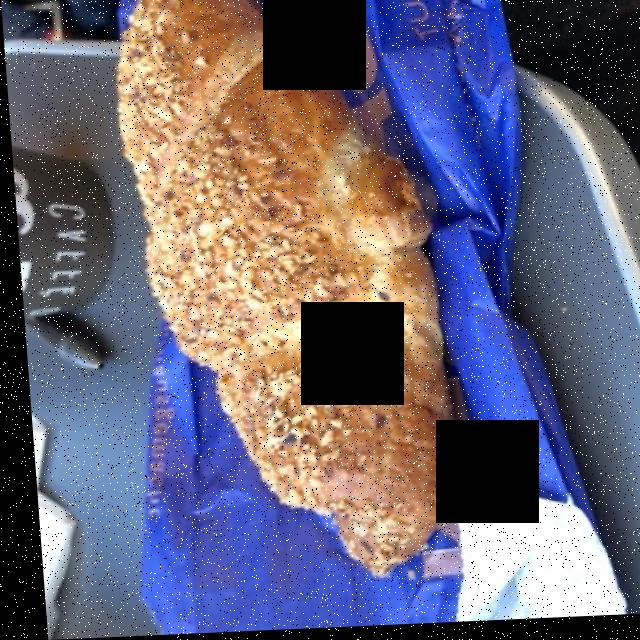croissant-with-chocolate-filling: (110, 17, 445, 579)
